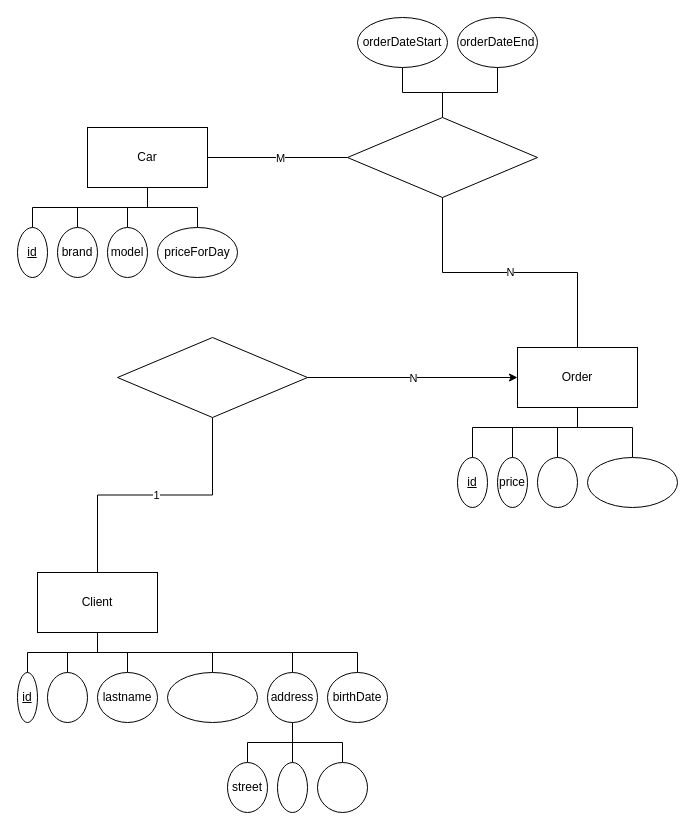
The diagram is 695 pixels wide and 830 high, and some of its shapes have lost their labels. Here are the shapes that lost their labels. From the top down, the centre of each, then its label:
the point at 442,157: orderCar
the point at 212,377: clientOrder
the point at 557,482: status
the point at 632,482: paymentMethod
the point at 67,697: name
the point at 212,697: personalCode
the point at 292,787: city
the point at 342,787: zipCode
